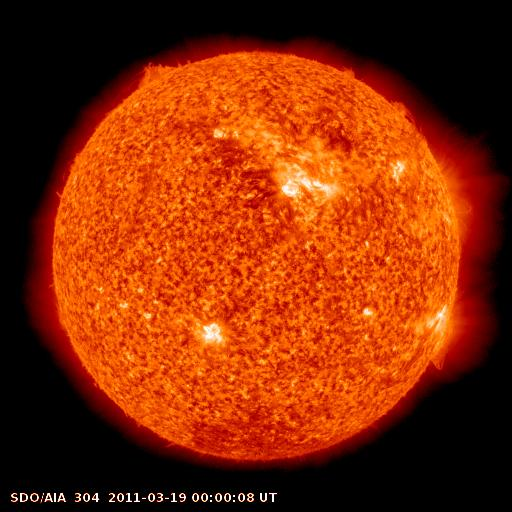prominence: (422, 330, 465, 382), (48, 146, 84, 207), (128, 55, 187, 91), (385, 88, 422, 134), (338, 57, 369, 89)
